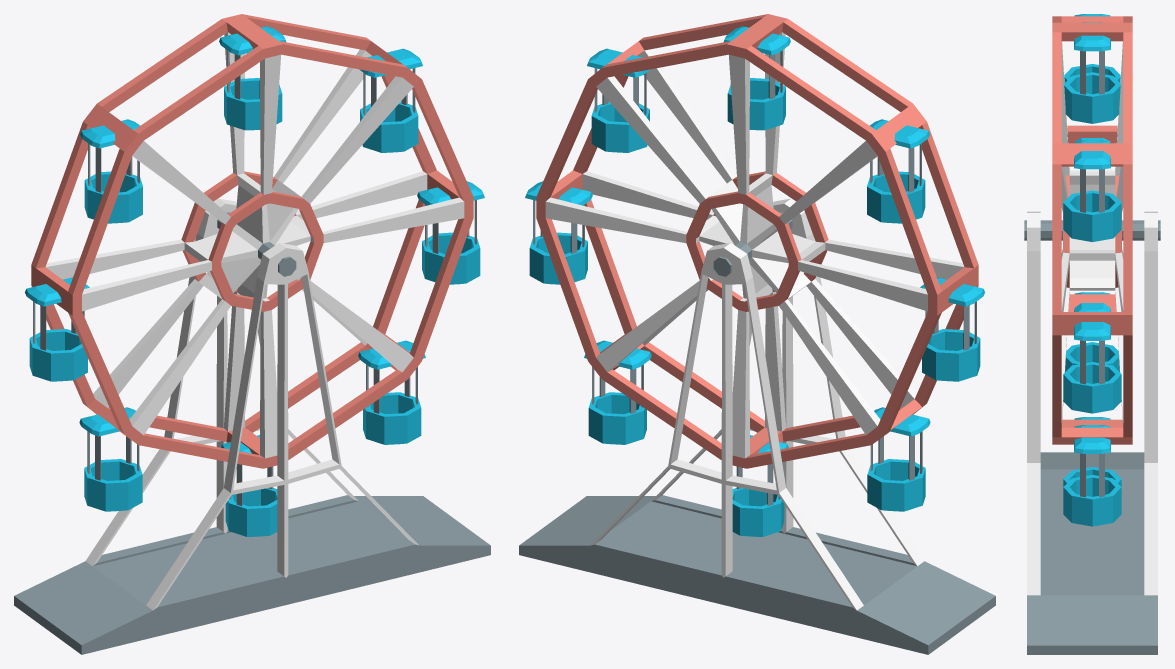
File: Ferris wheel.glb
3 renders of one model, left to right at view 1: azimuth 30°, elevation 25°; view 2: azimuth 150°, elevation 25°; view 3: azimuth 270°, elevation 25°, orthographic. The views are drawn at different scales.
Visible parts, largest first — view 1: Ferris_Wheel_Cube.036; view 2: Ferris_Wheel_Cube.036; view 3: Ferris_Wheel_Cube.036.
Boxes of the visible parts, x1,y1,x2,y2 form: Ferris_Wheel_Cube.036: (14,14,490,654); Ferris_Wheel_Cube.036: (519,14,995,654); Ferris_Wheel_Cube.036: (1024,14,1160,654).
Size of the model in its own units: 10.91 by 12.81 by 2.99.
